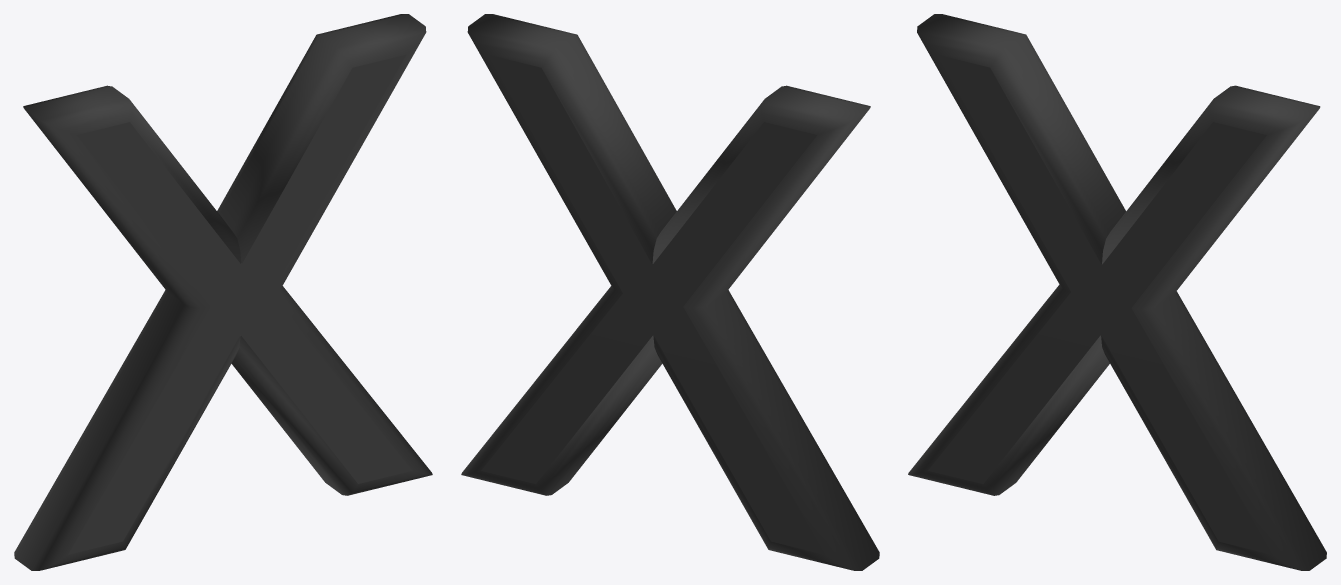
The model's file is 92069518-2eee-4311-96f6-c8baa55c94f0.glb.
3 renders of one model, left to right at view 1: azimuth 30°, elevation 25°; view 2: azimuth 150°, elevation 25°; view 3: azimuth 330°, elevation 25°, orthographic.
Visible parts, largest first — view 1: IndicatorXBlack; view 2: IndicatorXBlack; view 3: IndicatorXBlack.
Part boxes in pixels (x1,y1,x2,y2): IndicatorXBlack: (14, 14, 432, 570); IndicatorXBlack: (461, 14, 879, 570); IndicatorXBlack: (908, 14, 1326, 570).
Bounding box in the file's own units: 0.4438 × 0.4743 × 0.0645.
1 material, 1 textured.
